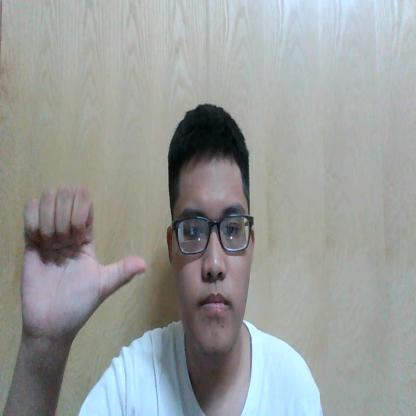left: (21, 184, 146, 334)
